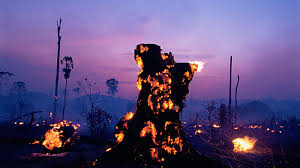fire: (37, 118, 66, 153), (231, 135, 259, 153)
smoke: (8, 57, 127, 117), (241, 94, 294, 120)
